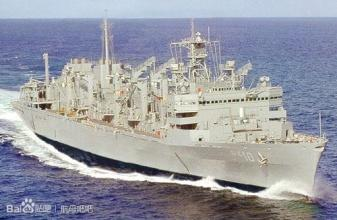warship: (10, 9, 322, 198)
